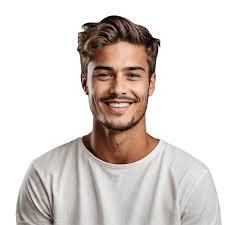person: (75, 11, 168, 130)
